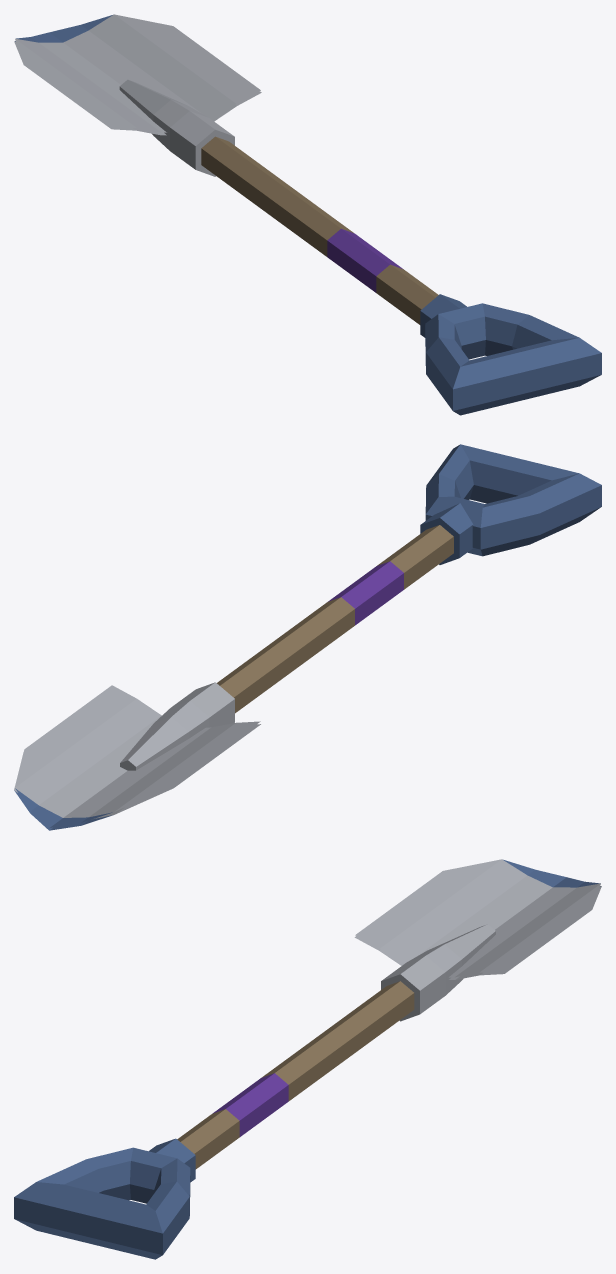
Rendered from shovelforBack.fbx.
The picture shows the model from 3 angles, top to bottom: view 1: azimuth 30°, elevation 25°; view 2: azimuth 150°, elevation 25°; view 3: azimuth 330°, elevation 25°; orthographic projection.
Visible parts, largest first — view 1: shove1:polySurface2, shove1:polySurface4; view 2: shove1:polySurface2, shove1:polySurface4; view 3: shove1:polySurface2, shove1:polySurface4.
Boxes of the visible parts, <box> form: shove1:polySurface2: <box>15,14,601,415</box>; shove1:polySurface4: <box>14,41,261,135</box>; shove1:polySurface2: <box>15,444,601,828</box>; shove1:polySurface4: <box>14,724,260,830</box>; shove1:polySurface2: <box>14,859,600,1259</box>; shove1:polySurface4: <box>354,886,601,979</box>.
Bounding box in the file's own units: 1.84 × 0.5713 × 10.17.
